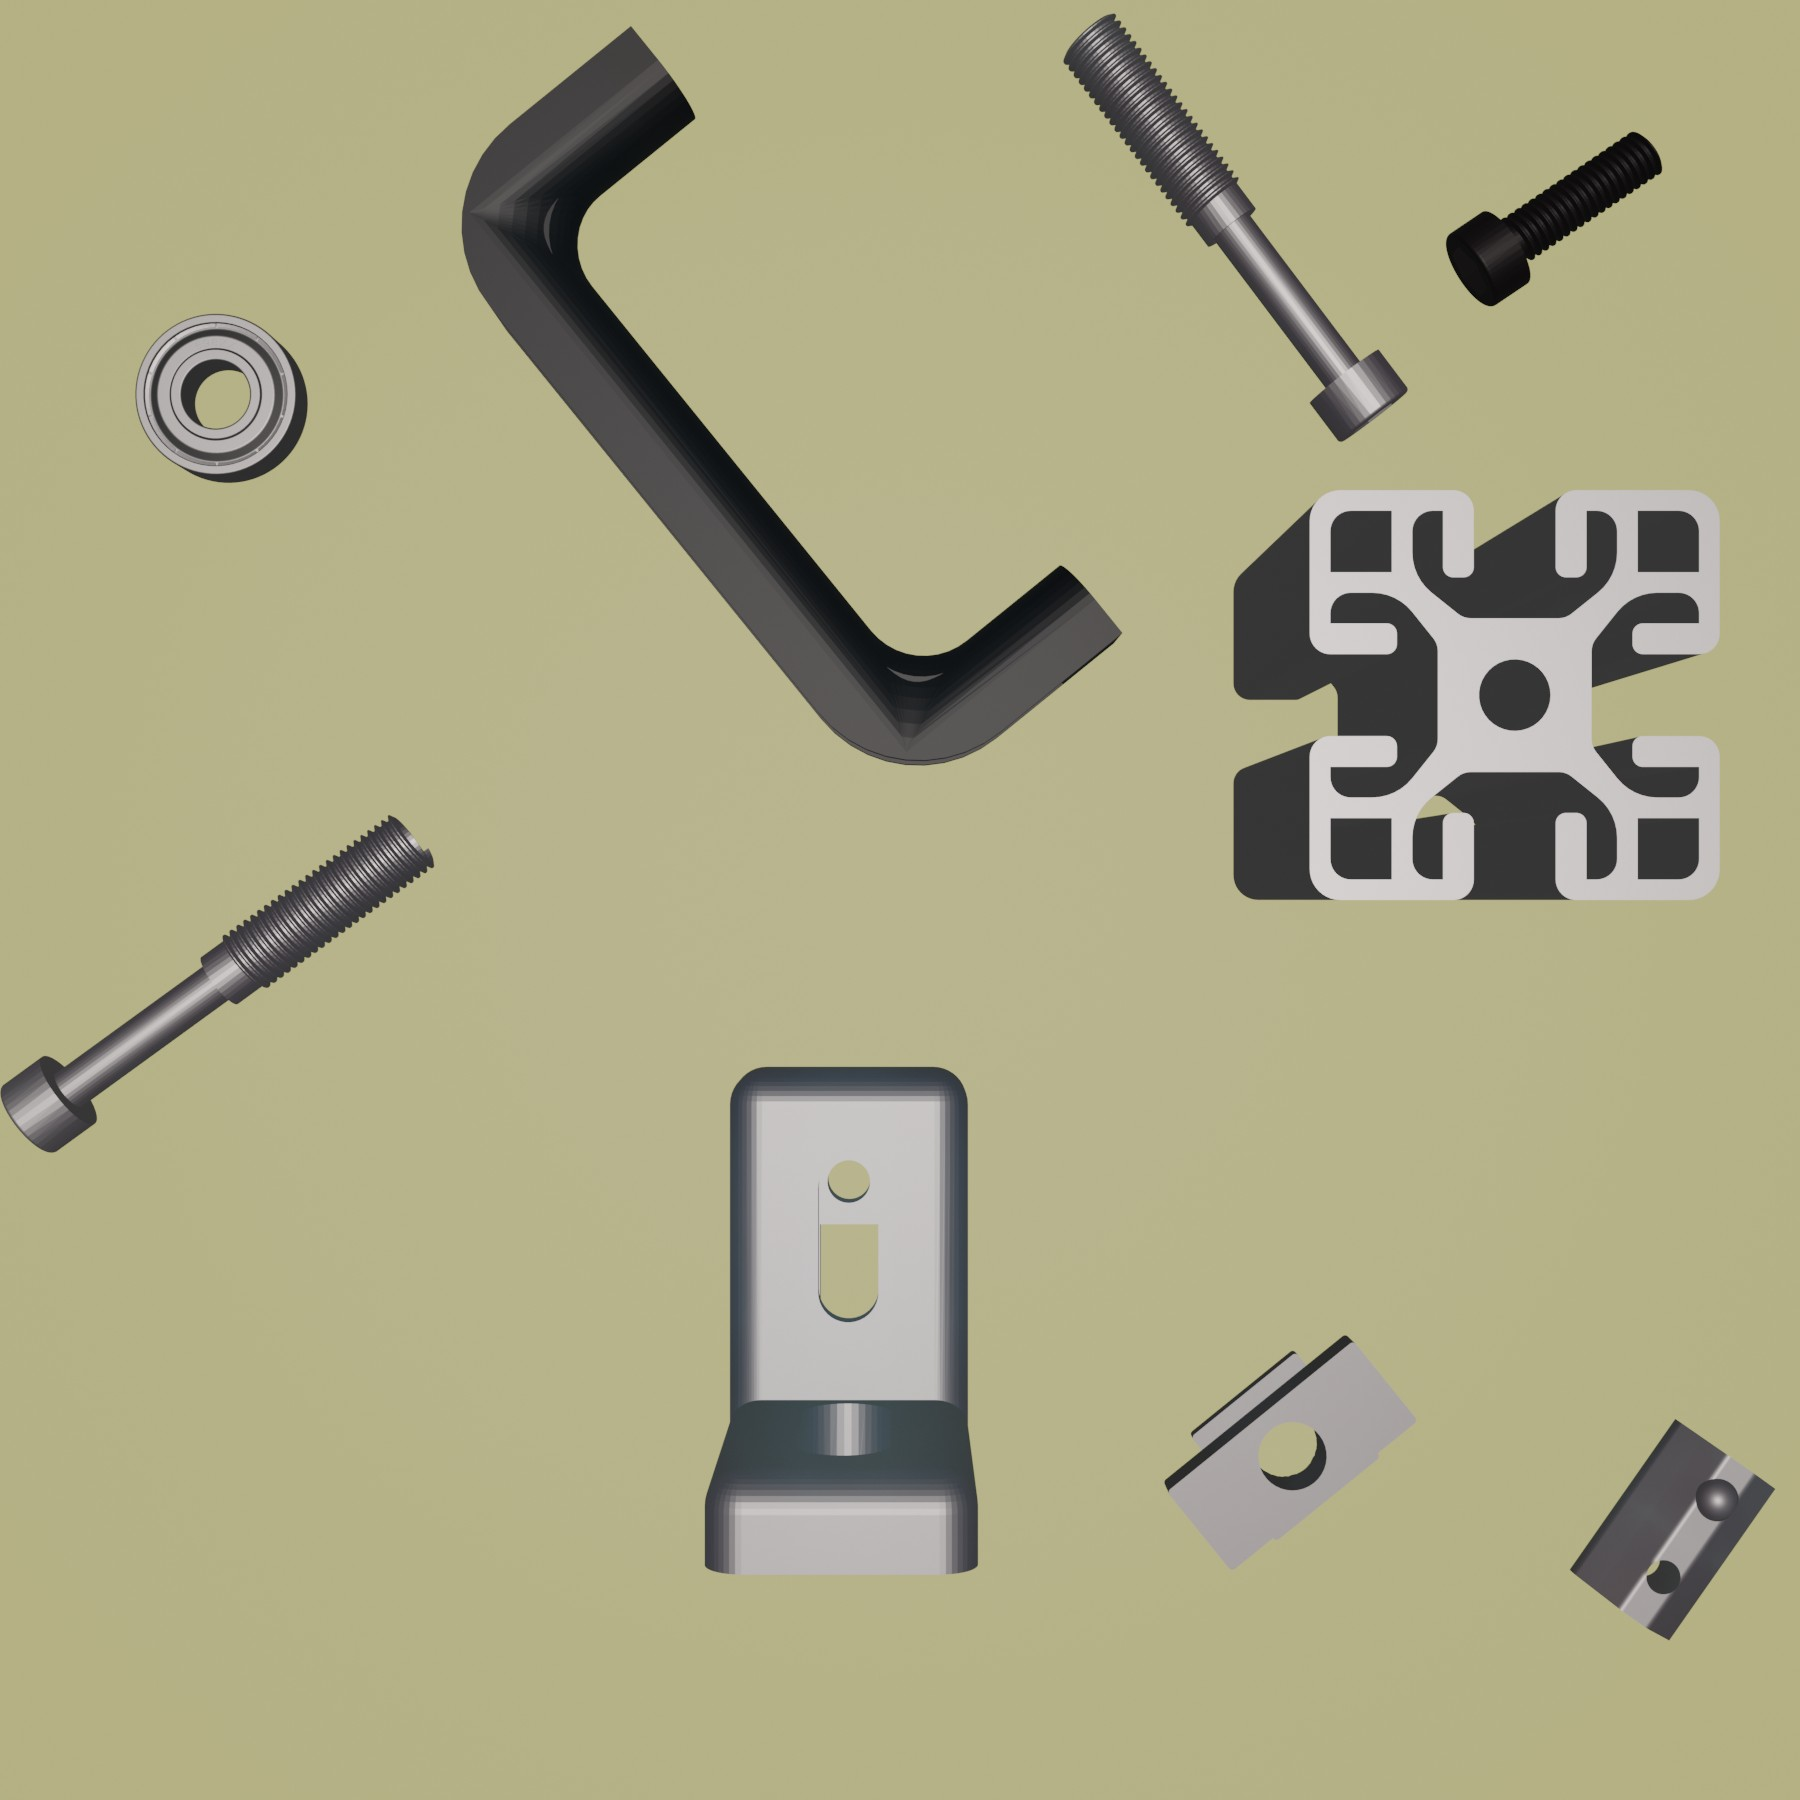Aluminium Extension: (1231, 485, 1724, 905)
Ball Bearing: (132, 312, 312, 485)
Multiwinkel: (701, 1062, 982, 1577)
Pull Handle: (458, 21, 1124, 768)
Shoulder Socket Head Cap Screw: (1058, 8, 1408, 447), (2, 813, 438, 1157)
Socket Head Cap Screw: (1444, 127, 1666, 308)
T Nut Square: (1164, 1330, 1419, 1576)
T Spring Nut: (1569, 1416, 1779, 1642)
